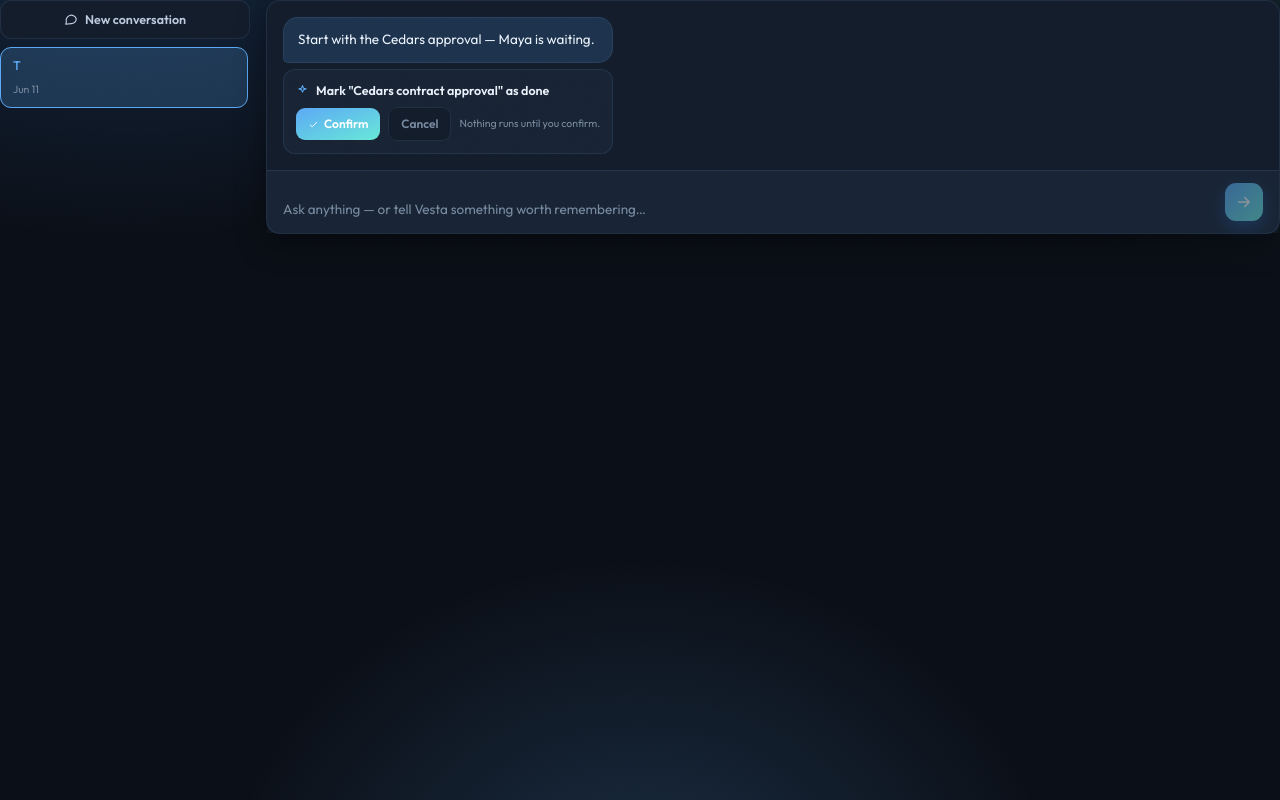
Test: ChatView › a proposed order renders a confirmation card; Confirm executes it
This screenshot has width=1280, height=800.
Check: the text "Mark \"Cedars contract approval\" as done" is shown, box top-left (296, 82), bottom-right (549, 98)
Check: the text "Nothing runs until you confirm." is shown, box top-left (460, 116), bottom-right (600, 132)
Click the button "Confirm": (338, 124) top-left (296, 108), bottom-right (380, 140)
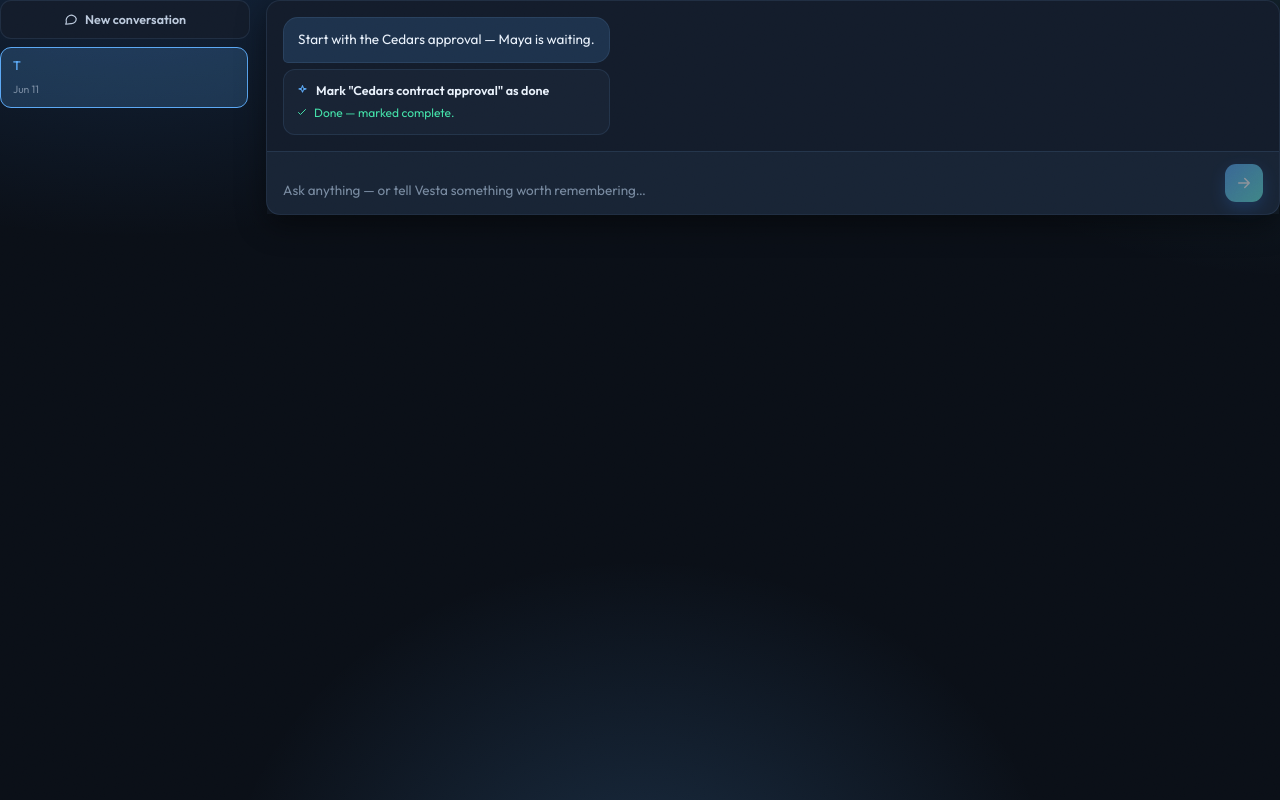
Check: the text "Done — marked complete." is shown, box top-left (296, 105), bottom-right (454, 120)
Check: the button "Confirm" is gone
